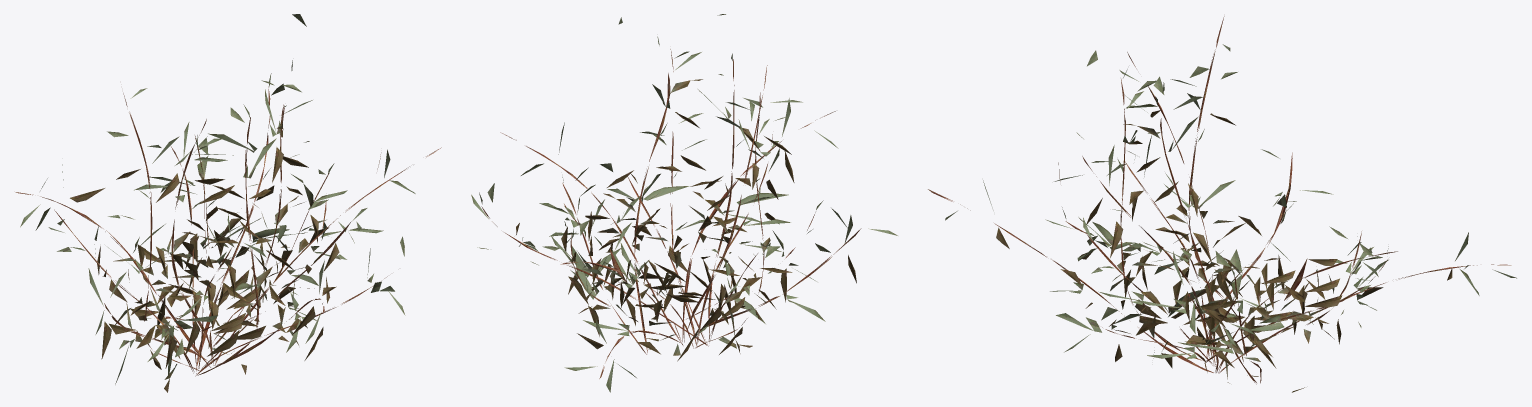
Rendered from shrub_02.glb.
3 renders of one model, left to right at view 1: azimuth 30°, elevation 25°; view 2: azimuth 150°, elevation 25°; view 3: azimuth 270°, elevation 25°, orthographic. The views are drawn at different scales.
Size of the model in its own units: 0.8279 by 0.6817 by 1.05.
1 material, 1 textured.
